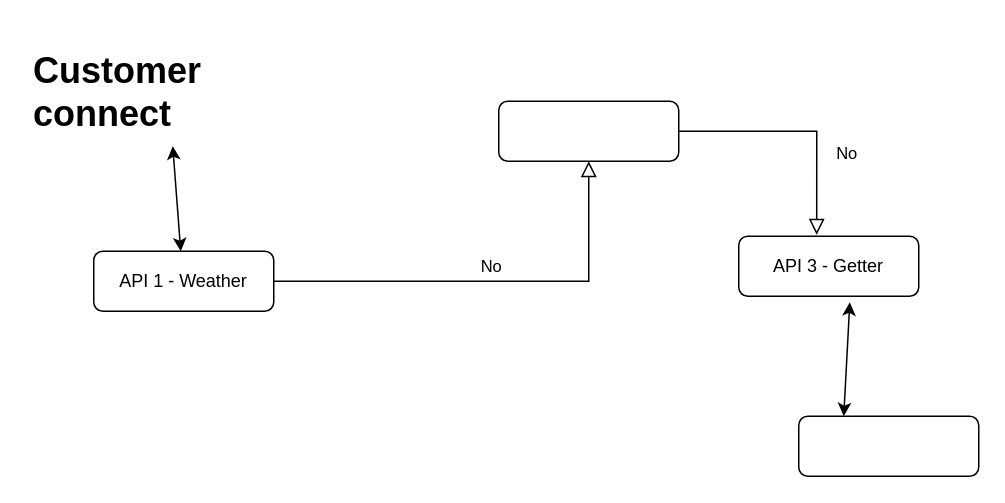
The diagram is 1005 pixels wide and 503 high, and some of its shapes have lost their labels. The shapes that lost their labels are listed below. From the top down, each one's centre as x and y in pixels, then its label:
the point at 588,130: API 2 - Text
the point at 888,445: Database
